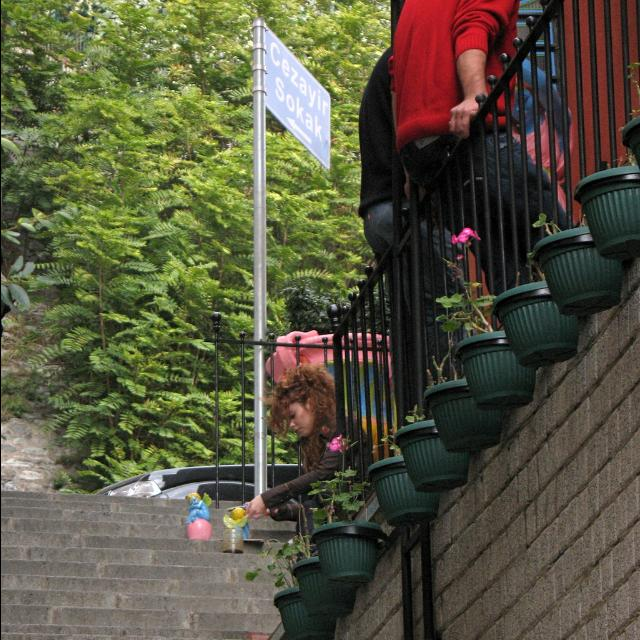Flower: (448, 227, 474, 245)
